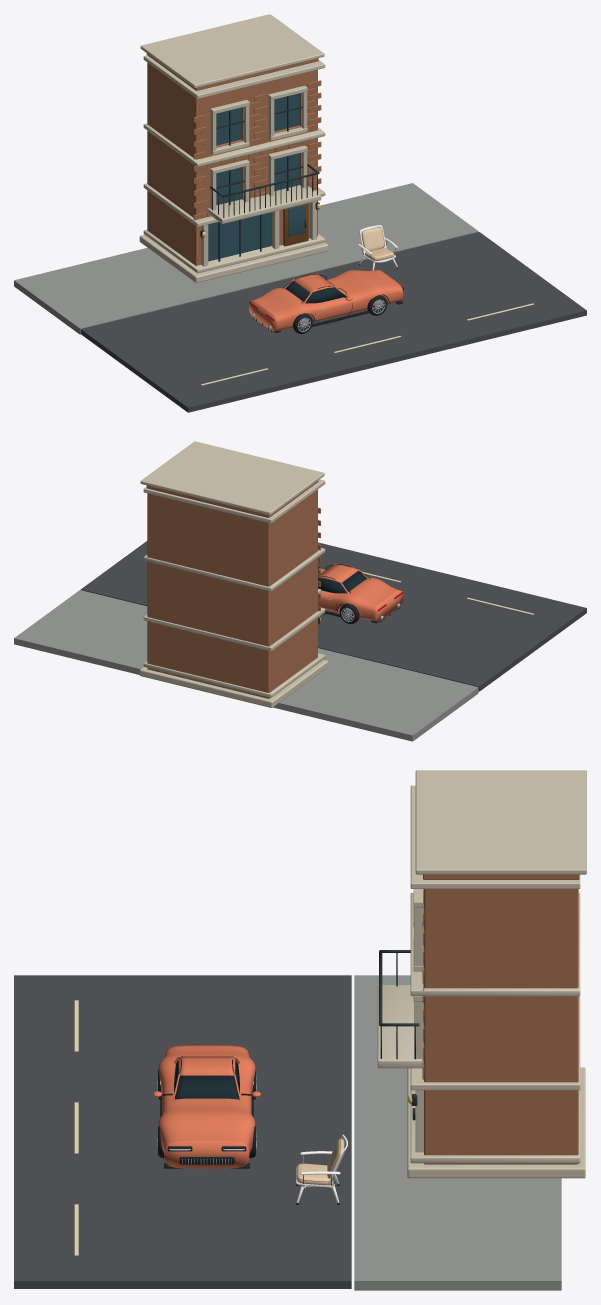
File: garage.glb
3 renders of one model, top to bottom at view 1: azimuth 30°, elevation 25°; view 2: azimuth 150°, elevation 25°; view 3: azimuth 270°, elevation 25°, orthographic. The views are drawn at different scales.
Visible parts, largest first — view 1: street, sidewalk, facade, roof_cap, chassis, shop_window, foundation, balcony_floor, cornice, base_course, middle_course, upper_window_left (+7 smaller); view 2: facade, street, sidewalk, roof_cap, chassis, foundation, cornice, base_course, middle_course, shop_header, parapet, roof; view 3: street, facade, sidewalk, roof_cap, chassis, foundation, balcony_floor, middle_course, cornice, base_course, shop_header, windshield (+2 smaller).
Boxes of the visible parts, x1=… form: street: x1=80, y1=232, x2=586, y2=412; sidewalk: x1=14, y1=183, x2=478, y2=334; facade: x1=147, y1=62, x2=317, y2=265; roof_cap: x1=140, y1=14, x2=324, y2=88; chassis: x1=249, y1=270, x2=403, y2=331; shop_window: x1=208, y1=212, x2=271, y2=261; foundation: x1=139, y1=234, x2=328, y2=283; balcony_floor: x1=207, y1=185, x2=321, y2=223; cornice: x1=143, y1=55, x2=325, y2=98; base_course: x1=143, y1=230, x2=325, y2=273; middle_course: x1=143, y1=123, x2=325, y2=166; upper_window_left: x1=216, y1=107, x2=241, y2=145; facade: x1=147, y1=489, x2=317, y2=698; street: x1=80, y1=541, x2=586, y2=691; sidewalk: x1=14, y1=590, x2=478, y2=741; roof_cap: x1=140, y1=441, x2=324, y2=515; chassis: x1=318, y1=568, x2=403, y2=621; foundation: x1=139, y1=659, x2=328, y2=707; cornice: x1=143, y1=479, x2=325, y2=523; base_course: x1=143, y1=653, x2=325, y2=697; middle_course: x1=143, y1=548, x2=325, y2=591; shop_header: x1=143, y1=607, x2=325, y2=651; parapet: x1=146, y1=480, x2=318, y2=517; roof: x1=318, y1=564, x2=358, y2=582; street: x1=14, y1=975, x2=351, y2=1288; facade: x1=424, y1=889, x2=578, y2=1164; sidewalk: x1=354, y1=975, x2=561, y2=1290; roof_cap: x1=415, y1=770, x2=586, y2=874; chassis: x1=158, y1=1045, x2=255, y2=1168; foundation: x1=407, y1=1067, x2=585, y2=1178; balcony_floor: x1=377, y1=985, x2=422, y2=1068; middle_course: x1=410, y1=892, x2=580, y2=996; cornice: x1=410, y1=785, x2=580, y2=888; base_course: x1=410, y1=1090, x2=580, y2=1163; shop_header: x1=410, y1=996, x2=580, y2=1090; windshield: x1=175, y1=1075, x2=238, y2=1099.
Size of the model in its own units: 15 by 7.27 by 11.87.
